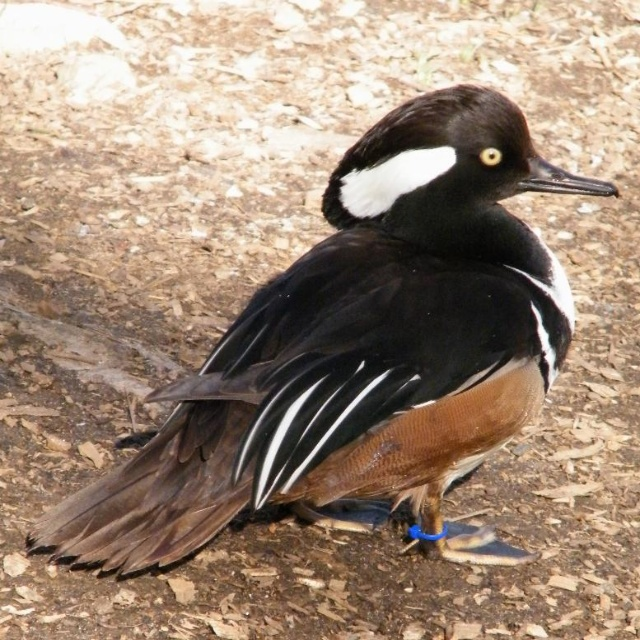Duck: (160, 70, 612, 574)
